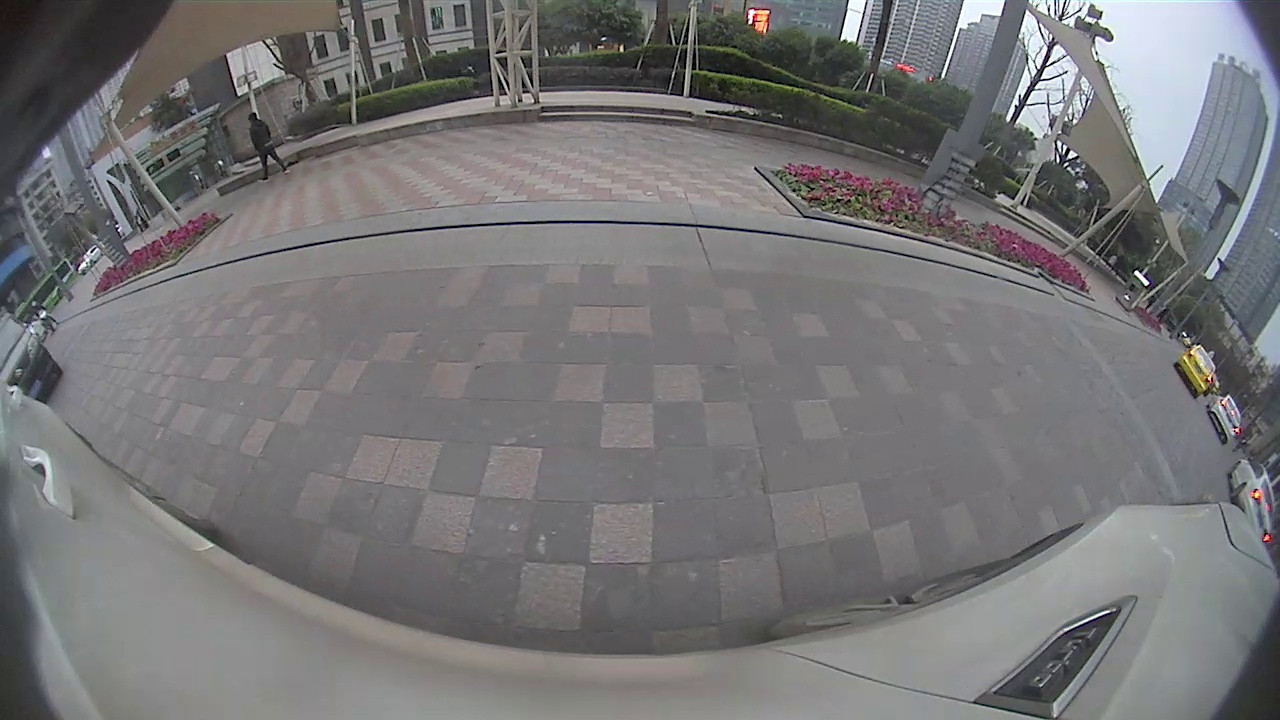car: (1, 313, 63, 405), (1227, 457, 1276, 543), (1172, 343, 1217, 397)
person: (249, 112, 270, 183)
